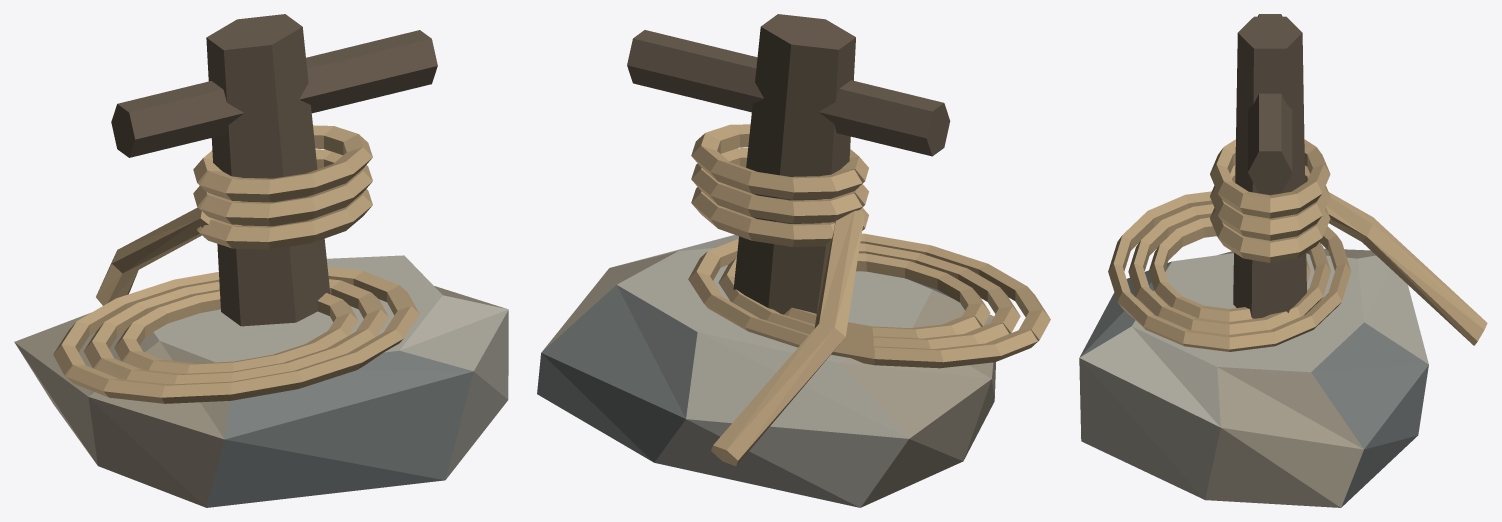
File: Canyon_RopeAnchor.fbx
3 renders of one model, left to right at view 1: azimuth 30°, elevation 25°; view 2: azimuth 150°, elevation 25°; view 3: azimuth 270°, elevation 25°, orthographic. The views are drawn at different scales.
Visible parts, largest first — view 1: Canyon_RopeAnchor; view 2: Canyon_RopeAnchor; view 3: Canyon_RopeAnchor.
Part boxes in pixels (box(x1,y1,x2,y2)): Canyon_RopeAnchor: box(14, 14, 508, 507); Canyon_RopeAnchor: box(537, 14, 1050, 507); Canyon_RopeAnchor: box(1079, 14, 1487, 507).
Bounding box in the file's own units: 1 × 0.85 × 0.85.
